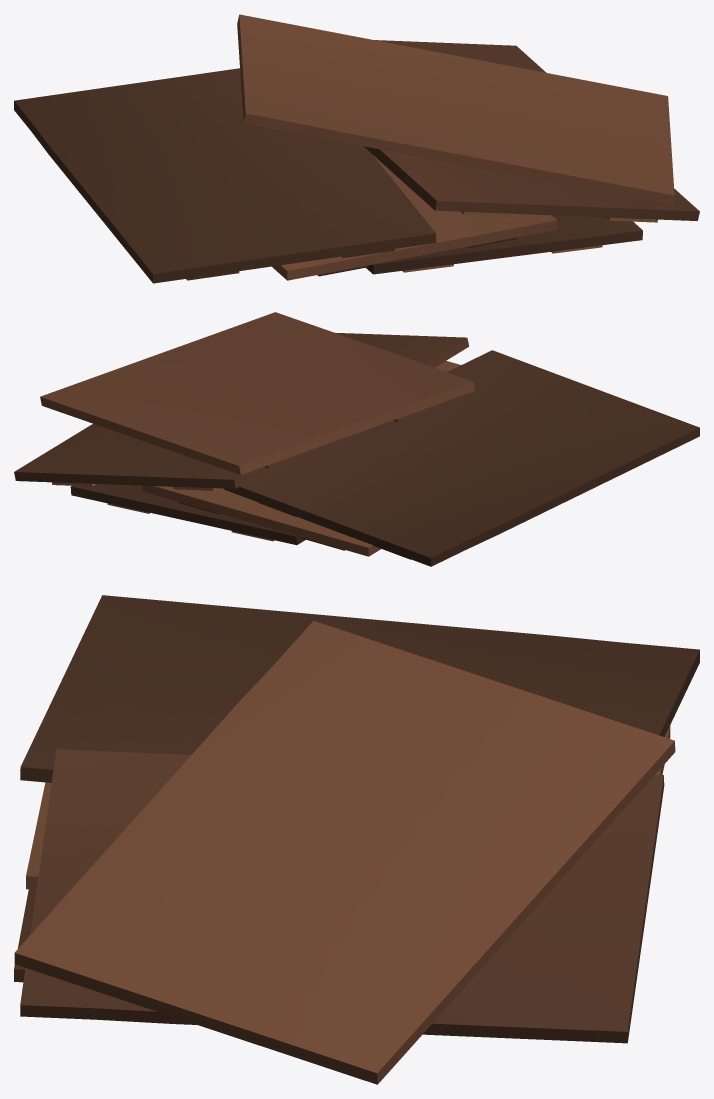
The model's file is Multiple Small Messy Cherry Crate Lids.fbx.
3 renders of one model, top to bottom at view 1: azimuth 30°, elevation 25°; view 2: azimuth 150°, elevation 25°; view 3: azimuth 270°, elevation 25°, orthographic. The views are drawn at different scales.
Visible parts, largest first — view 1: Small Multiple Messy Cherry Crate Lids; view 2: Small Multiple Messy Cherry Crate Lids; view 3: Small Multiple Messy Cherry Crate Lids.
Part boxes in pixels (x1=…): Small Multiple Messy Cherry Crate Lids: x1=14, y1=14, x2=699, y2=283; Small Multiple Messy Cherry Crate Lids: x1=14, y1=312, x2=699, y2=566; Small Multiple Messy Cherry Crate Lids: x1=14, y1=595, x2=699, y2=1084.
Bounding box in the file's own units: 64.12 × 229 × 330.
Materials: 1 (1 with a texture image).
